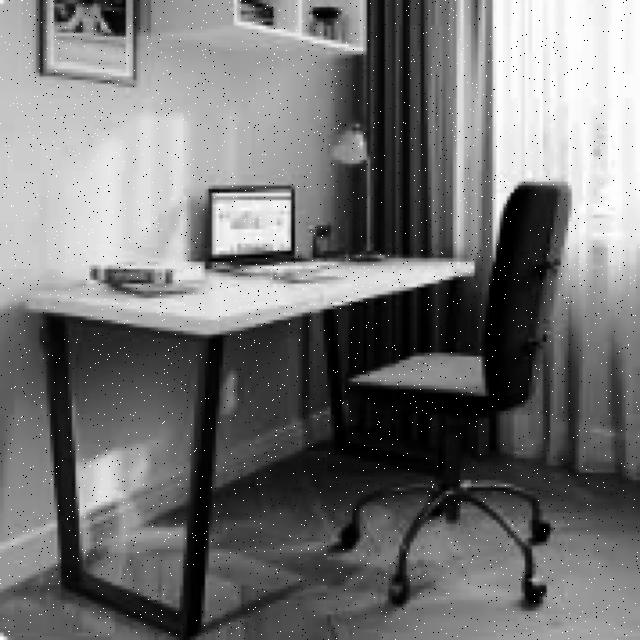book: (338, 178, 575, 604)
table: (25, 251, 478, 636)
